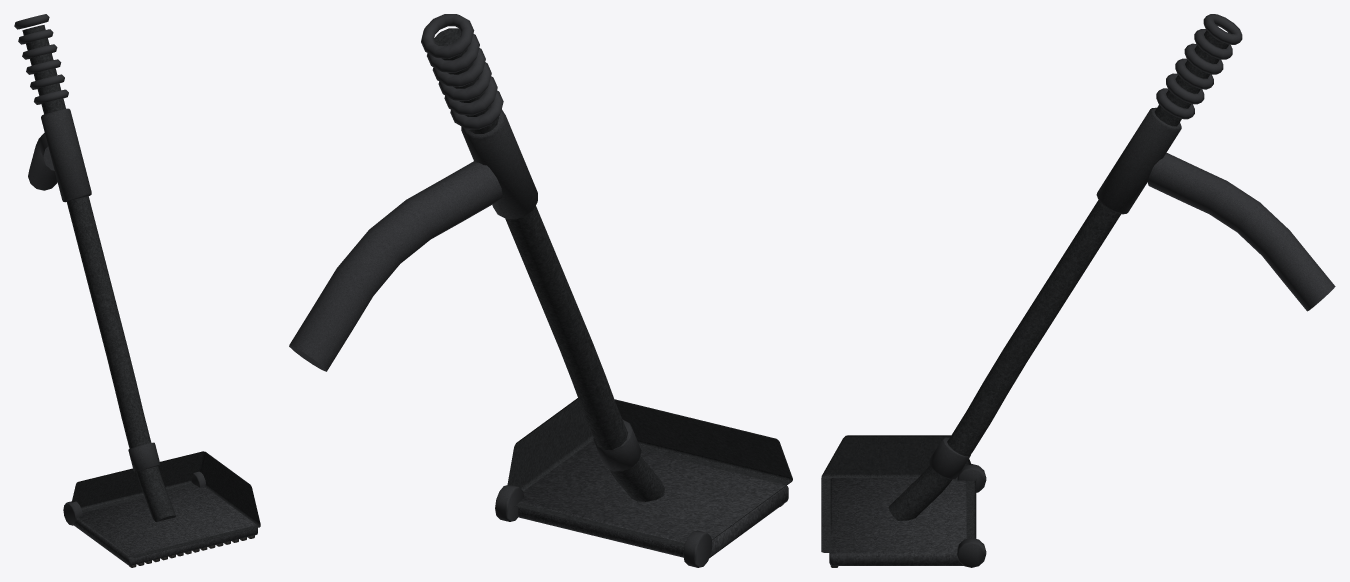
The model's file is asset_071_vacuum_cleaner_fp.glb.
3 renders of one model, left to right at view 1: azimuth 30°, elevation 25°; view 2: azimuth 150°, elevation 25°; view 3: azimuth 270°, elevation 25°, orthographic. The views are drawn at different scales.
Visible parts, largest first — view 1: MESH_VacWandSpine, MESH_VacHeadSole, MESH_VacHeadShell, MESH_VacWandGrip, MESH_VacHoseTail, MESH_VacWandCollar, MESH_VacHeadBrushStrip, MESH_VacHeadWheelL; view 2: MESH_VacHeadSole, MESH_VacHoseTail, MESH_VacHeadShell, MESH_VacWandSpine, MESH_VacWandGrip, MESH_VacHoseRib_5, MESH_VacWandCollar, MESH_VacHeadWheelL, MESH_VacHeadWheelR, MESH_VacHoseRib_4, MESH_VacHoseRib_0, MESH_VacHoseRib_3 (+2 smaller); view 3: MESH_VacWandSpine, MESH_VacHeadSole, MESH_VacHoseTail, MESH_VacHeadShell, MESH_VacWandGrip, MESH_VacWandCollar, MESH_VacHoseRib_5, MESH_VacHeadWheelR.
Part boxes in pixels (<box>): MESH_VacWandSpine: <box>22,25,175,521</box>; MESH_VacHeadSole: <box>74,485,257,565</box>; MESH_VacHeadShell: <box>71,451,260,557</box>; MESH_VacWandGrip: <box>41,108,91,202</box>; MESH_VacHoseTail: <box>28,133,57,190</box>; MESH_VacWandCollar: <box>128,442,160,471</box>; MESH_VacHeadBrushStrip: <box>129,535,254,567</box>; MESH_VacHeadWheelL: <box>63,501,82,525</box>; MESH_VacHeadSole: <box>518,440,788,557</box>; MESH_VacHoseTail: <box>289,161,502,371</box>; MESH_VacHeadShell: <box>507,398,792,547</box>; MESH_VacWandSpine: <box>434,28,664,501</box>; MESH_VacWandGrip: <box>461,109,537,219</box>; MESH_VacHoseRib_5: <box>421,14,474,58</box>; MESH_VacWandCollar: <box>593,419,641,471</box>; MESH_VacHeadWheelL: <box>683,530,712,567</box>; MESH_VacHeadWheelR: <box>495,485,523,521</box>; MESH_VacHoseRib_4: <box>427,28,479,72</box>; MESH_VacHoseRib_0: <box>450,90,503,129</box>; MESH_VacHoseRib_3: <box>432,48,485,86</box>; MESH_VacWandSpine: <box>888,30,1228,520</box>; MESH_VacHeadSole: <box>829,478,966,565</box>; MESH_VacHoseTail: <box>1147,152,1335,311</box>; MESH_VacHeadShell: <box>821,435,976,552</box>; MESH_VacWandGrip: <box>1096,107,1181,214</box>; MESH_VacWandCollar: <box>928,437,970,479</box>; MESH_VacHoseRib_5: <box>1203,14,1242,44</box>; MESH_VacHeadWheelR: <box>957,537,986,567</box>.
Bounding box in the file's own units: 0.256 × 0.7795 × 0.7055.
Materials: 4 (4 with a texture image).
